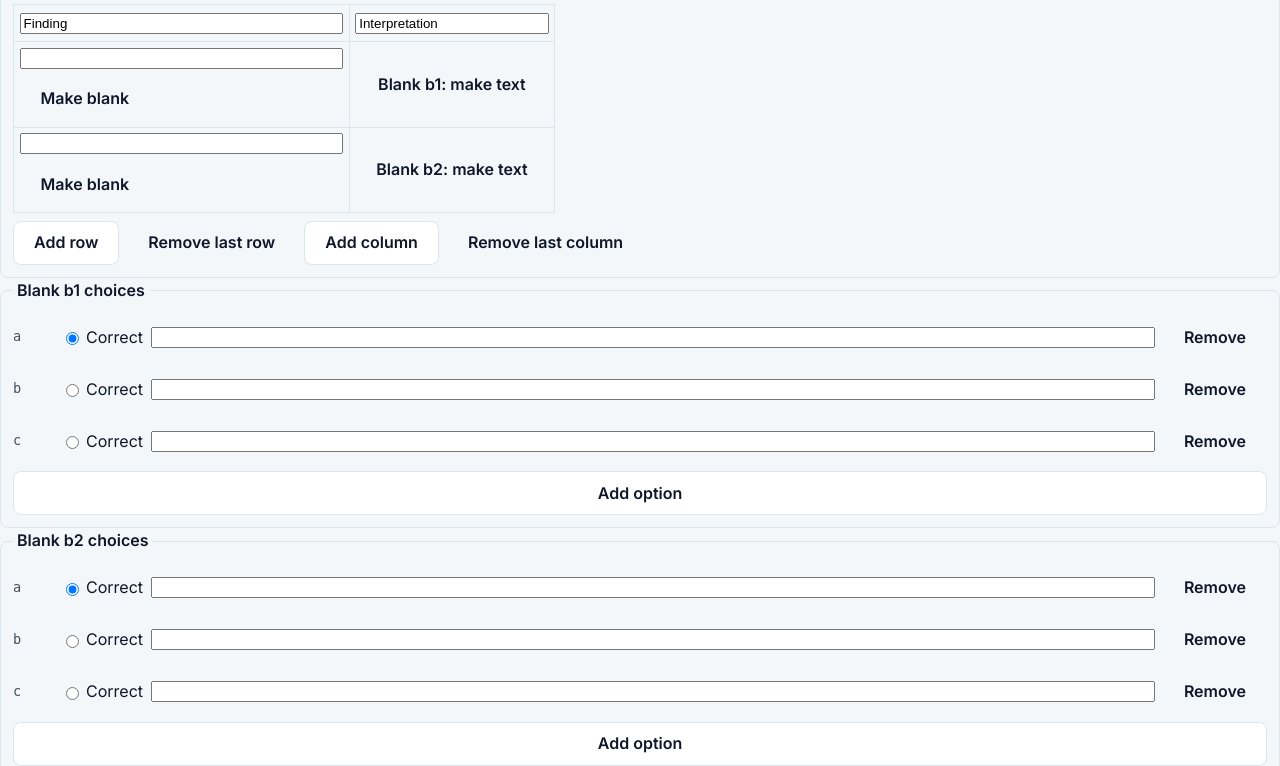
Test: ItemForm › drop-down table: making a cell a blank adds a blank to choose from
The width and height of the screenshot is (1280, 766).
Click the button with aria-label "Make row 1, column 1 a blank".
click(85, 99)  # box [20,77,150,121]
(page scrolled)
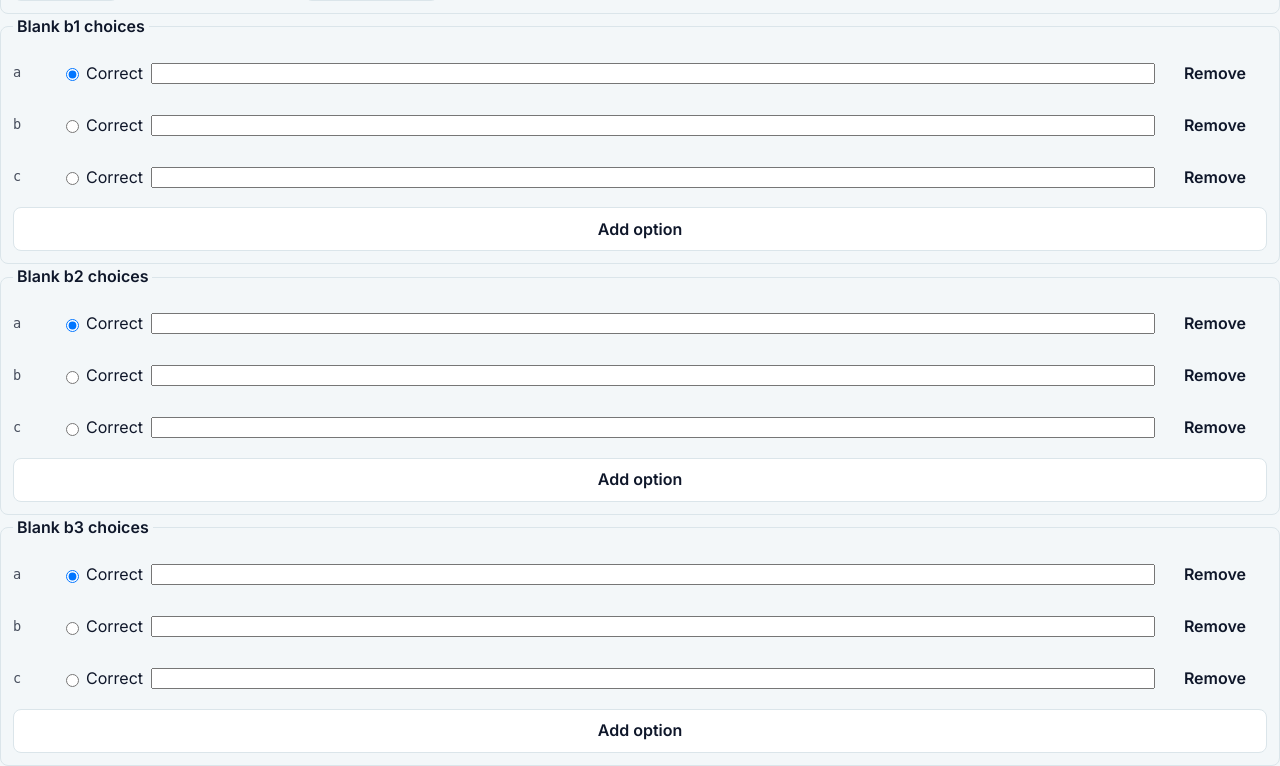
Now the element "Blank b3 choices" is shown, box [0,515,1279,765]
